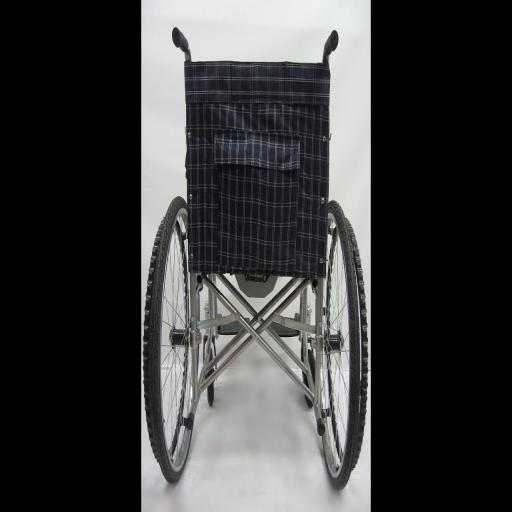cadeira_de_rodas: (141, 23, 371, 508)
